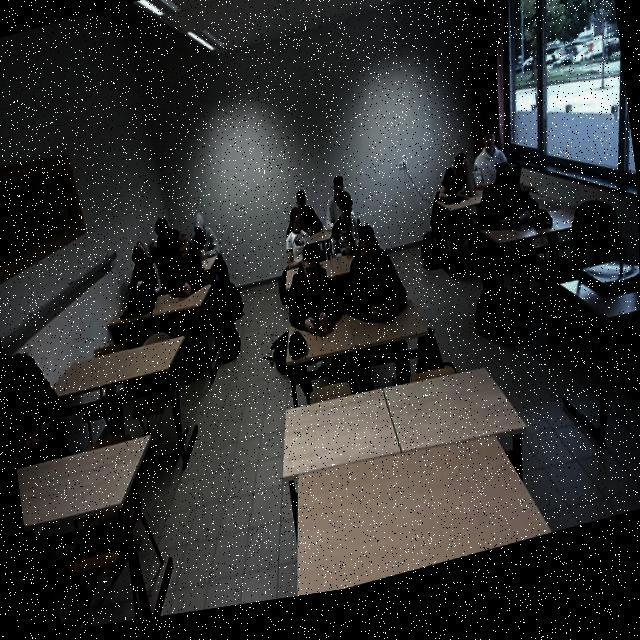phone_use: (0, 349, 64, 470), (347, 224, 405, 320), (477, 162, 550, 228), (285, 243, 338, 333), (430, 152, 478, 229), (122, 241, 157, 315), (285, 189, 321, 260), (166, 233, 205, 295), (327, 175, 353, 252), (149, 216, 178, 274), (188, 211, 217, 269), (285, 210, 308, 267), (331, 206, 357, 253)
